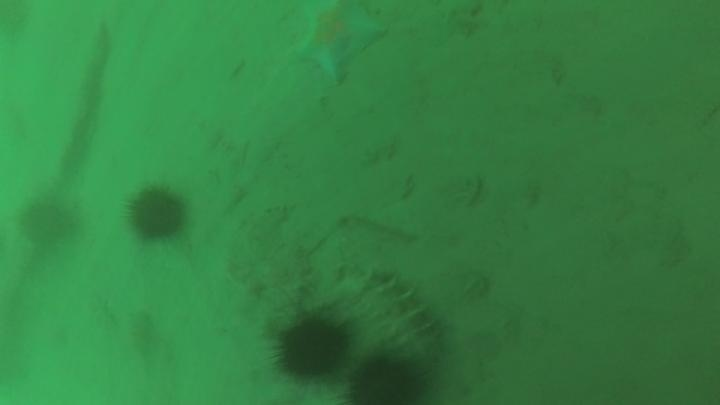echinus: (270, 310, 353, 383), (121, 181, 192, 247), (345, 352, 430, 405), (16, 193, 80, 252)
holothurian: (301, 259, 442, 354)
starfish: (292, 2, 387, 86)
